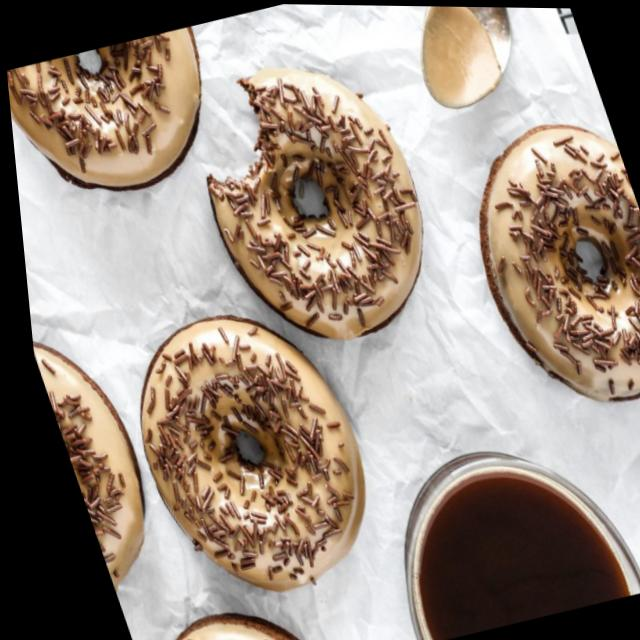donut: (163, 39, 459, 361), (93, 287, 388, 609), (439, 104, 640, 419), (2, 23, 237, 213)
kopi hitam: (346, 419, 639, 640)
